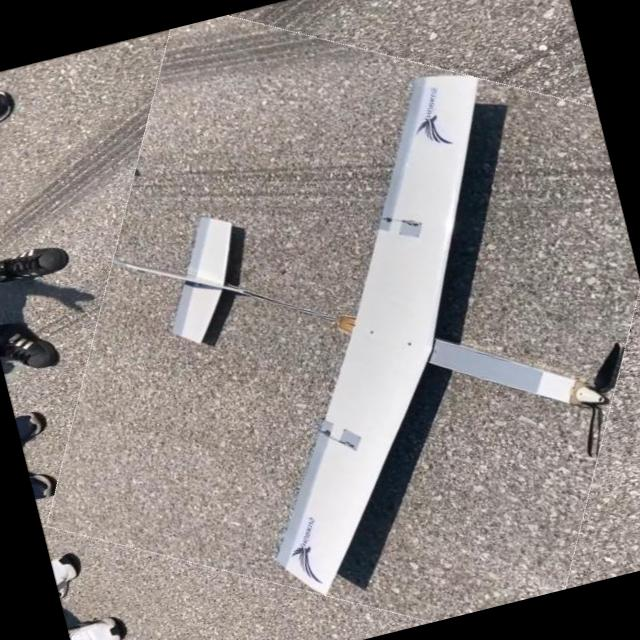UAV: (86, 2, 640, 611)
